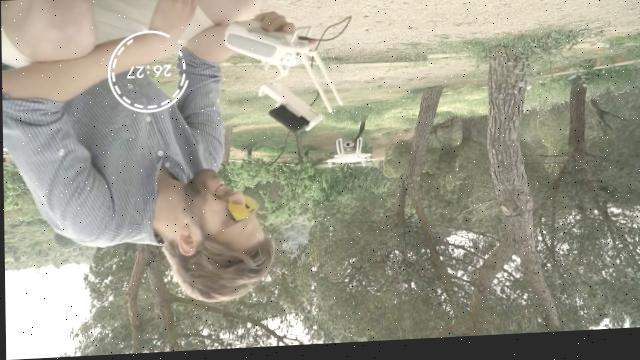drone: (310, 138, 386, 176)
